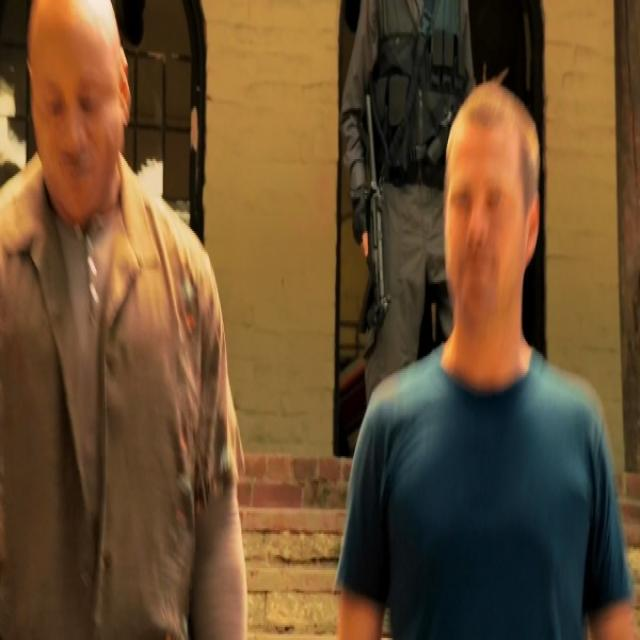rifle: (353, 92, 394, 342)
